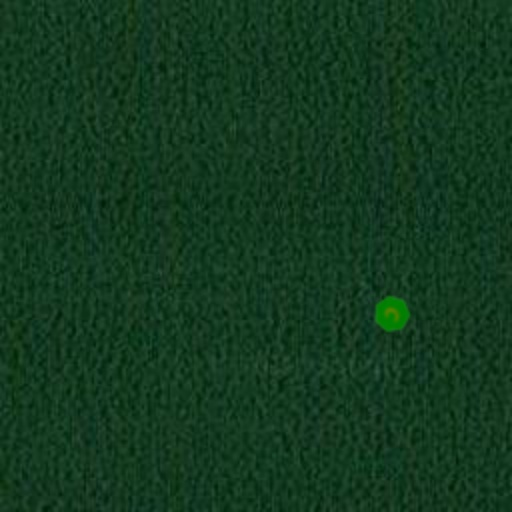heptagon: (368, 290, 416, 338)
